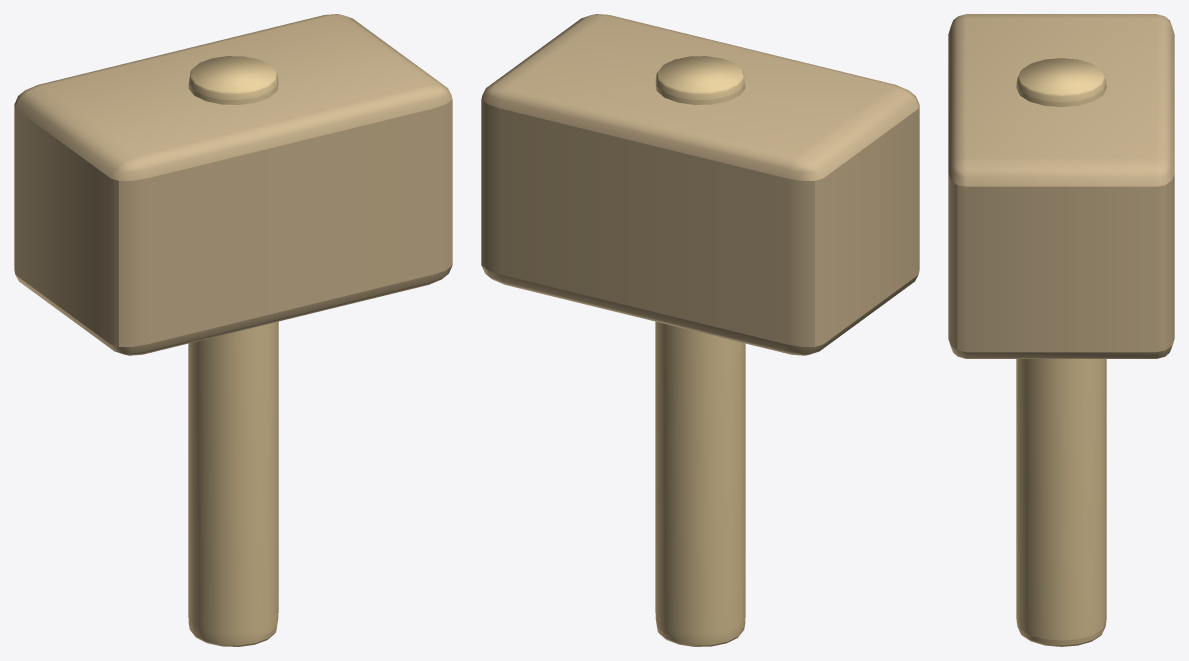
File: Hammer02.glb
3 renders of one model, left to right at view 1: azimuth 30°, elevation 25°; view 2: azimuth 150°, elevation 25°; view 3: azimuth 270°, elevation 25°, orthographic.
Parts seen in each view (by area): view 1: Hammer; view 2: Hammer; view 3: Hammer.
Part boxes in pixels (box(x1,y1,x2,y2)): Hammer: box(14, 14, 452, 646); Hammer: box(481, 14, 919, 646); Hammer: box(948, 14, 1174, 646).
Size of the model in its own units: 0.13 by 0.2022 by 0.075.
